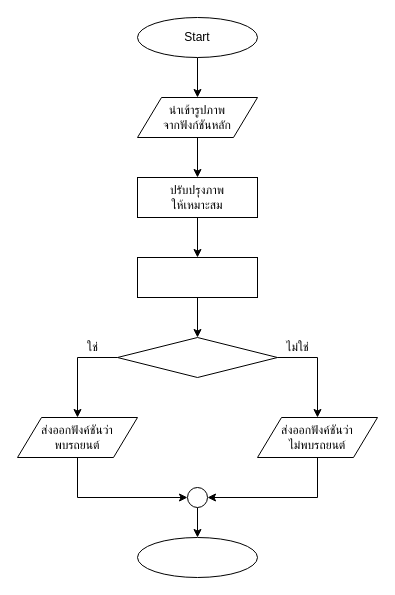
Image size: 395x595. Some labels were removed from this diagram. The shapes that lost their labels are listed below. From the top down, each one's centre as x and y in pixels, then its label:
At [197,277]: "ตรวจจับความเข้มแสงของรถยนต์".
At [197,357]: "ตรวจพบความเข้มแสง".
At [197,557]: "End".
